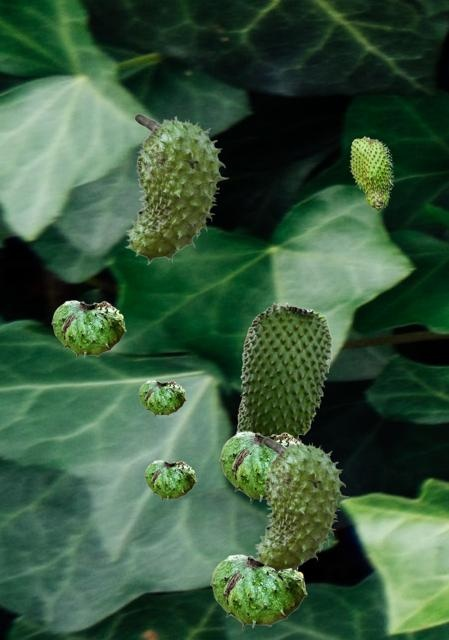guyabano: (124, 113, 228, 264), (253, 437, 348, 575), (240, 302, 331, 438), (210, 554, 306, 629), (219, 431, 303, 503), (51, 300, 125, 358), (349, 136, 393, 210), (236, 397, 299, 439), (144, 460, 195, 500), (138, 380, 185, 416)
